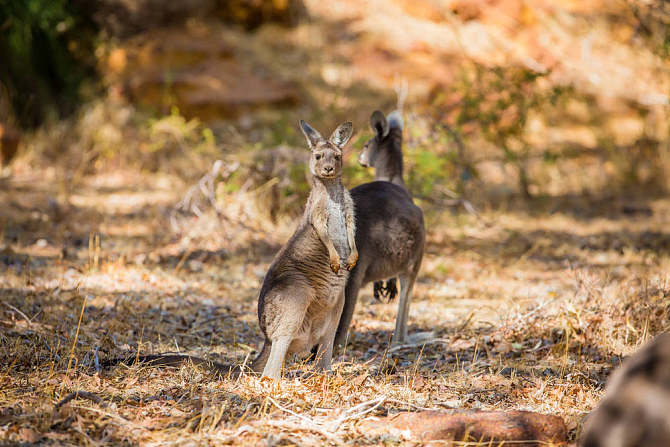kangaroo: (106, 118, 357, 389), (334, 108, 432, 372)
